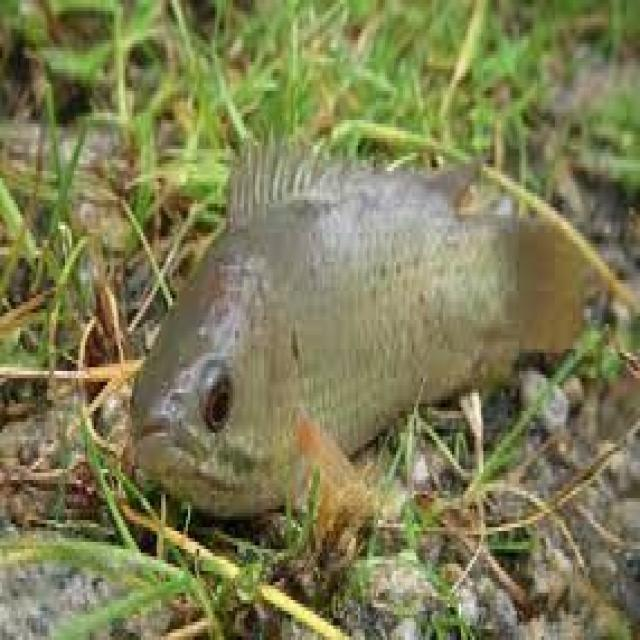Climbing-Perch: (119, 71, 627, 597)
